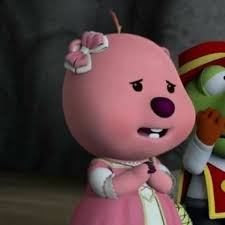Loopy: (58, 8, 197, 225)
